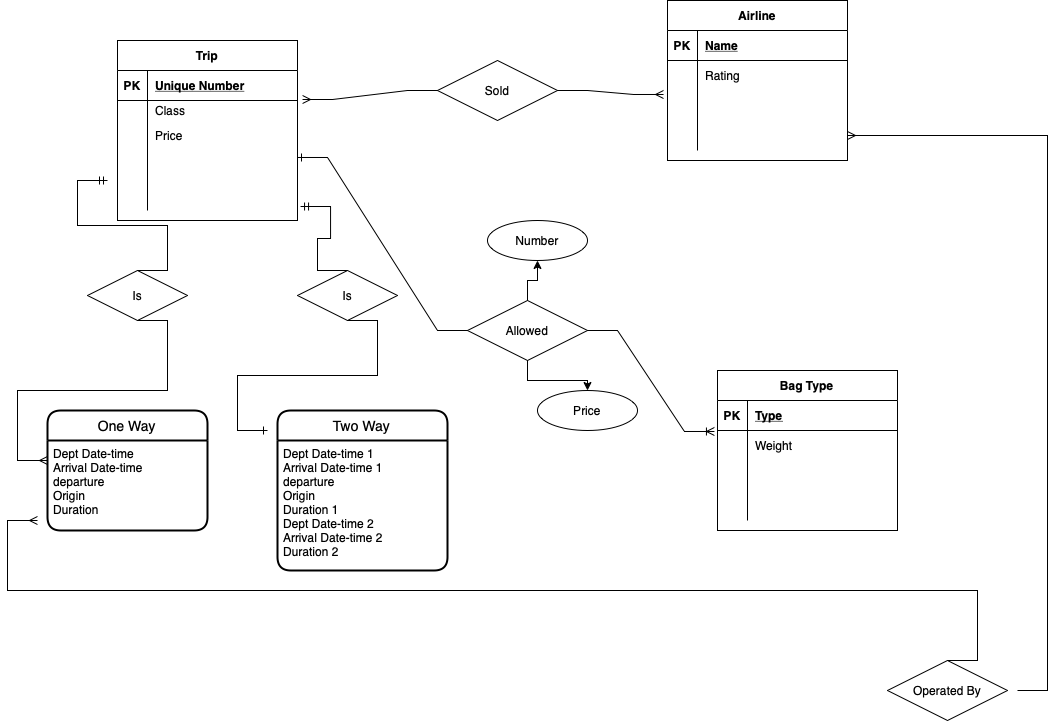entity: (118, 39, 298, 221), (717, 369, 897, 532), (668, 1, 847, 163), (278, 408, 448, 571), (46, 407, 211, 533)
many: (620, 82, 667, 107), (846, 122, 889, 147), (681, 419, 717, 441), (299, 87, 332, 110), (13, 450, 48, 469), (4, 510, 44, 526)
one: (233, 419, 273, 438), (75, 173, 115, 188), (299, 199, 333, 216), (297, 150, 326, 165)
rel: (886, 657, 1011, 721), (469, 297, 589, 363), (439, 59, 560, 121), (298, 263, 398, 322), (87, 266, 190, 322)
rel_attr: (486, 216, 589, 261), (537, 389, 639, 431)
